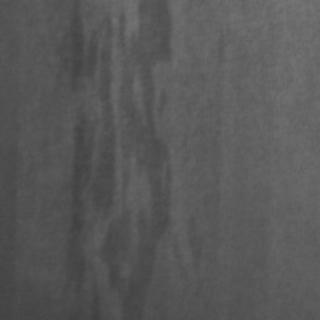inclusion: (59, 1, 172, 316)
